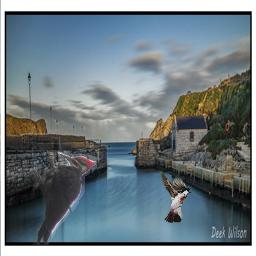Swallow: (159, 169, 191, 223)
Woodpecker: (31, 152, 97, 245)
